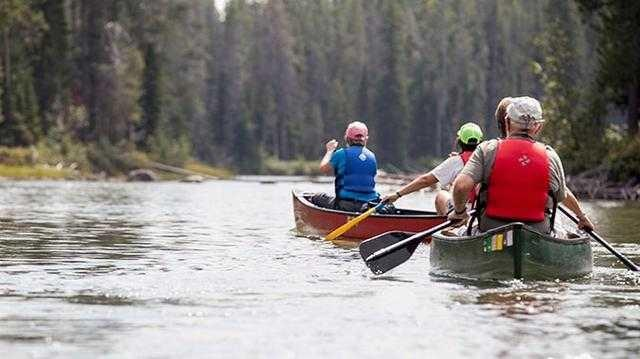kayak: (291, 185, 592, 281), (431, 223, 593, 279), (290, 188, 449, 244)
